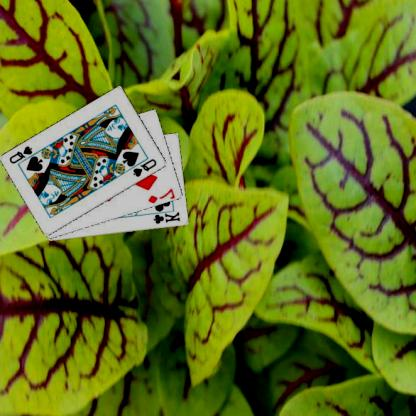7D: (147, 186, 178, 205)
KC: (149, 207, 183, 225)
QS: (133, 156, 160, 178), (9, 144, 36, 166)
